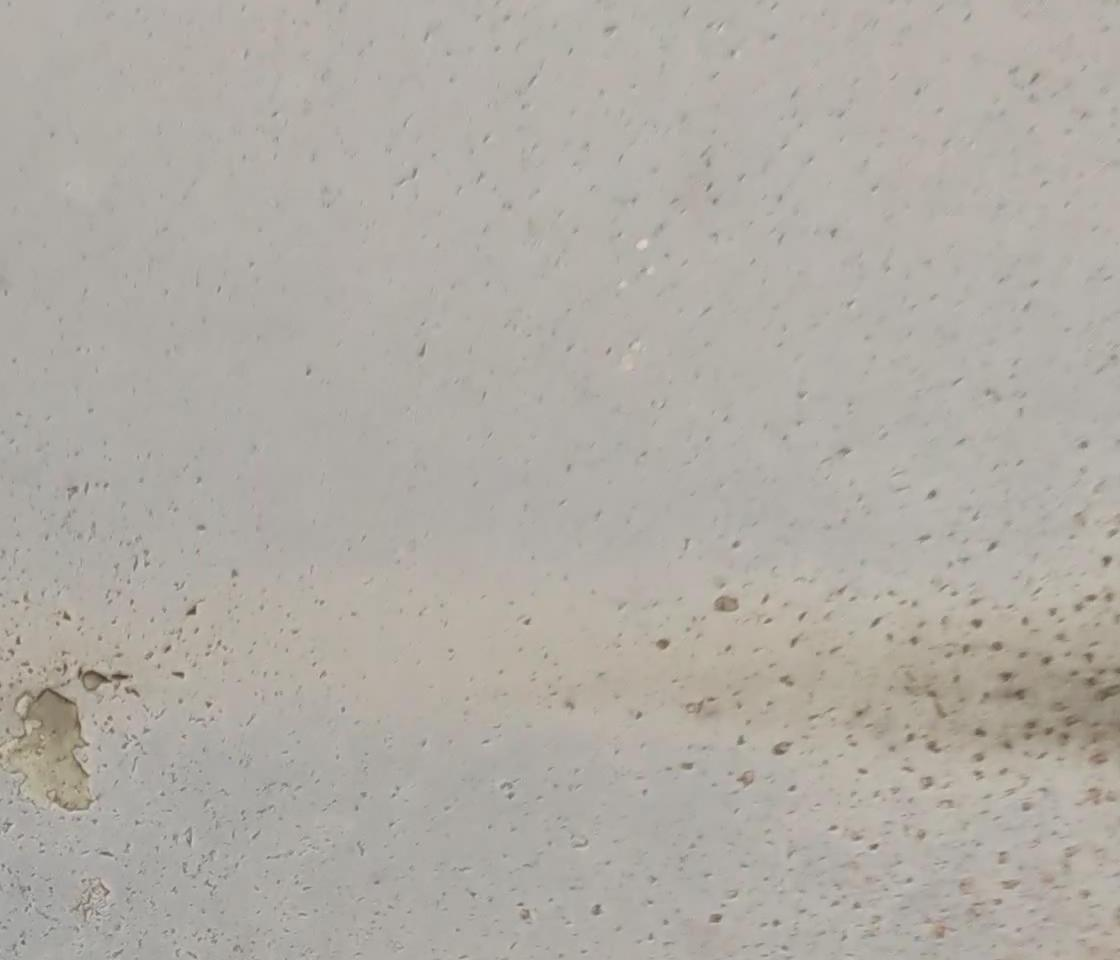paint_peel: (5, 688, 103, 831)
